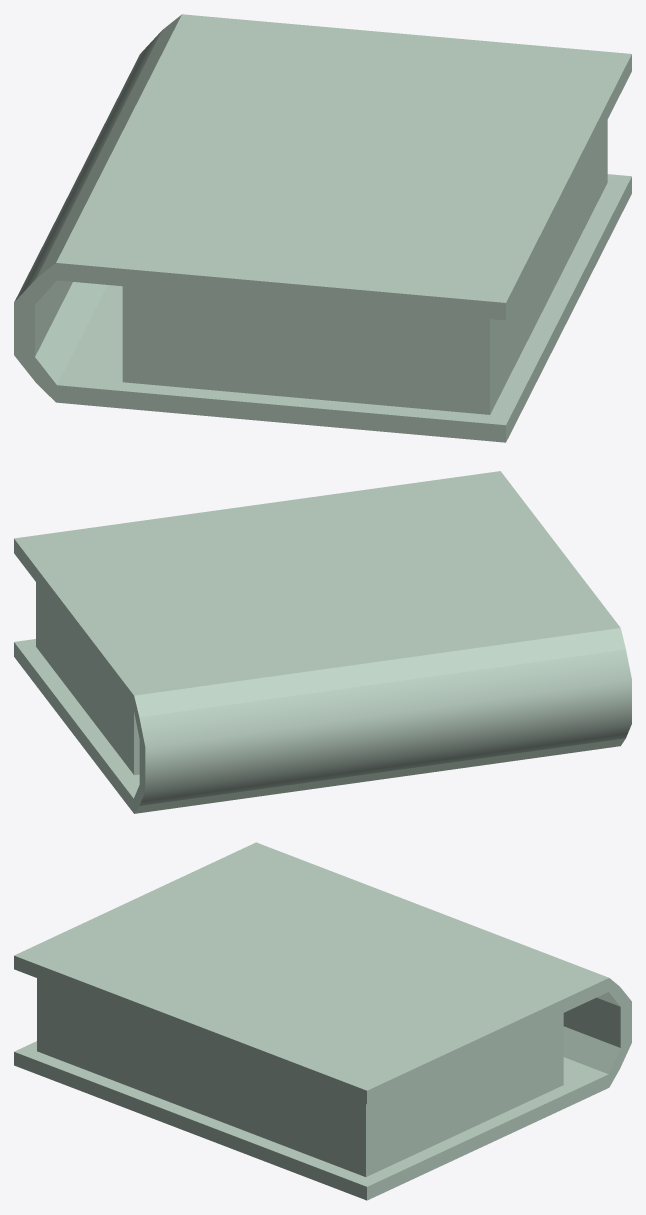
The model's file is Libro 2.fbx.
3 renders of one model, top to bottom at view 1: azimuth 30°, elevation 25°; view 2: azimuth 150°, elevation 25°; view 3: azimuth 270°, elevation 25°, orthographic. The views are drawn at different scales.
Parts seen in each view (by area): view 1: polySurface3485; view 2: polySurface3485; view 3: polySurface3485.
Boxes of the visible parts, x1,y1,x2,y2 form: polySurface3485: (14,14,631,442); polySurface3485: (14,471,631,813); polySurface3485: (14,842,631,1200).
Bounding box in the file's own units: 3.77 × 0.7562 × 3.81.
